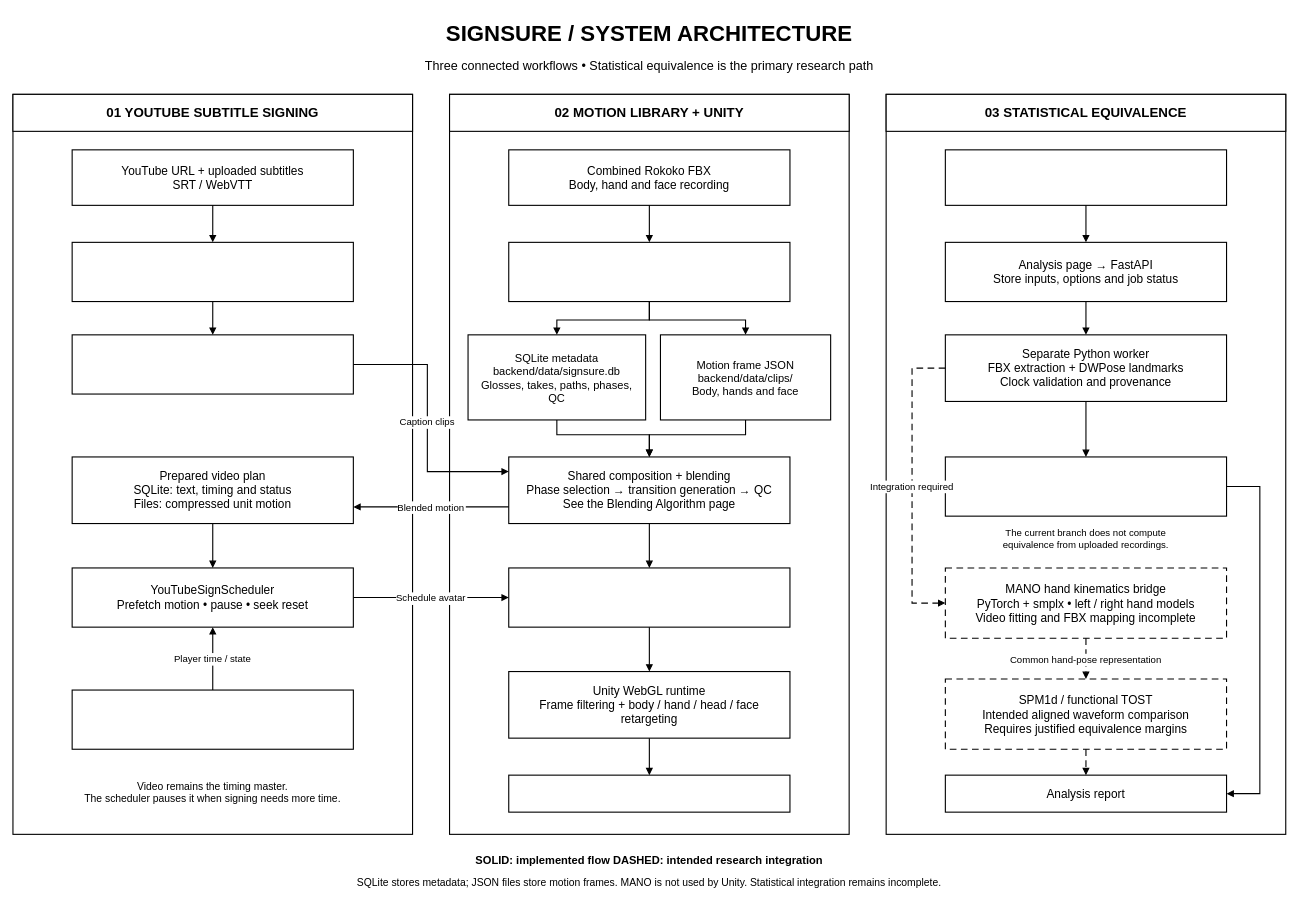
Image size: 1299x906. Some labels were removed from this diagram. Here are the shapes that lost their labels. From the top down, the box of each, then its label:
(944, 149, 1227, 206): Motion-capture FBX + reference video Optional comparison FBX
(71, 241, 354, 302): Watch page → FastAPI Parse subtitles into complete caption units
(508, 241, 790, 302): Capture page → FastAPI ufbx parsing + phase normalization
(71, 334, 354, 394): Resolve caption units ISL patterns / labelled literal previews
(944, 456, 1227, 516): CURRENT APPLICATION BRANCH Pre-generated plot + success summary
(508, 567, 790, 627): React SignoraPlayer Calibration + canonical frame scheduling
(71, 689, 354, 749): Official YouTube iframe Playback clock, buffering and seek events
(508, 774, 790, 812): Rendered Signora avatar
